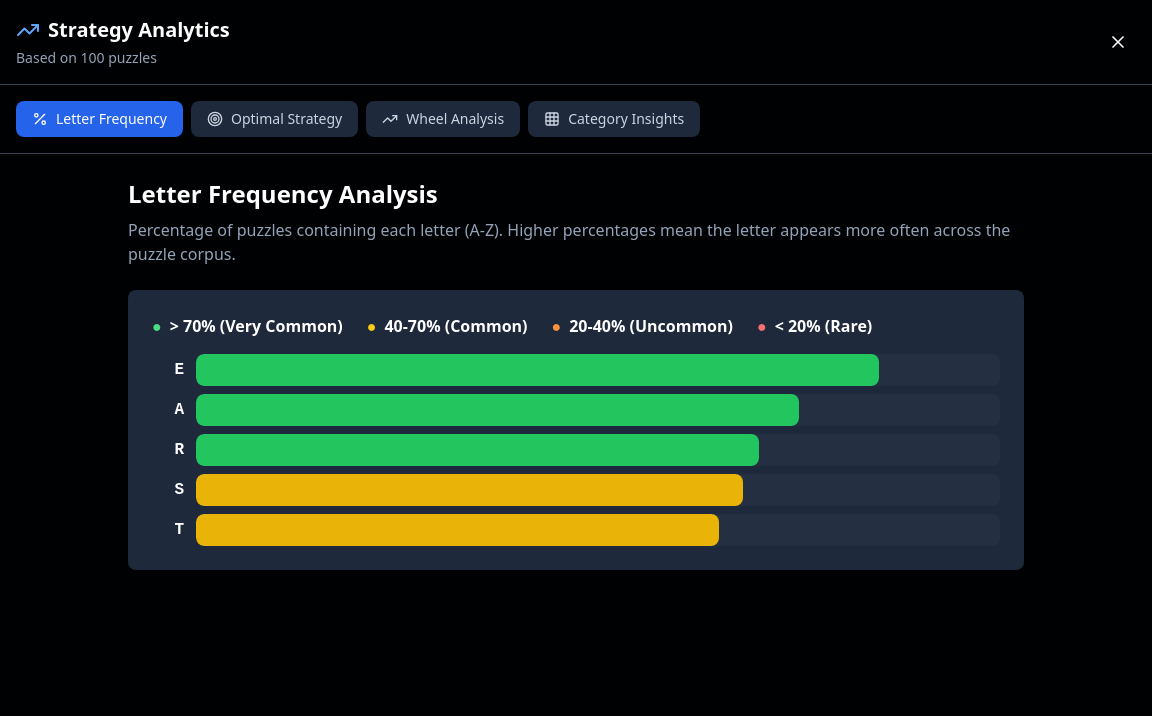
it: StrategyDashboard › should switch tabs when tab buttons are clicked
Check: the heading "Letter Frequency Analysis" is shown, box 128,177 -> 438,210
Click Optimal Strategy tab
Click the button "Optimal Strategy" at coordinates (275, 119), box 191,101 -> 358,137
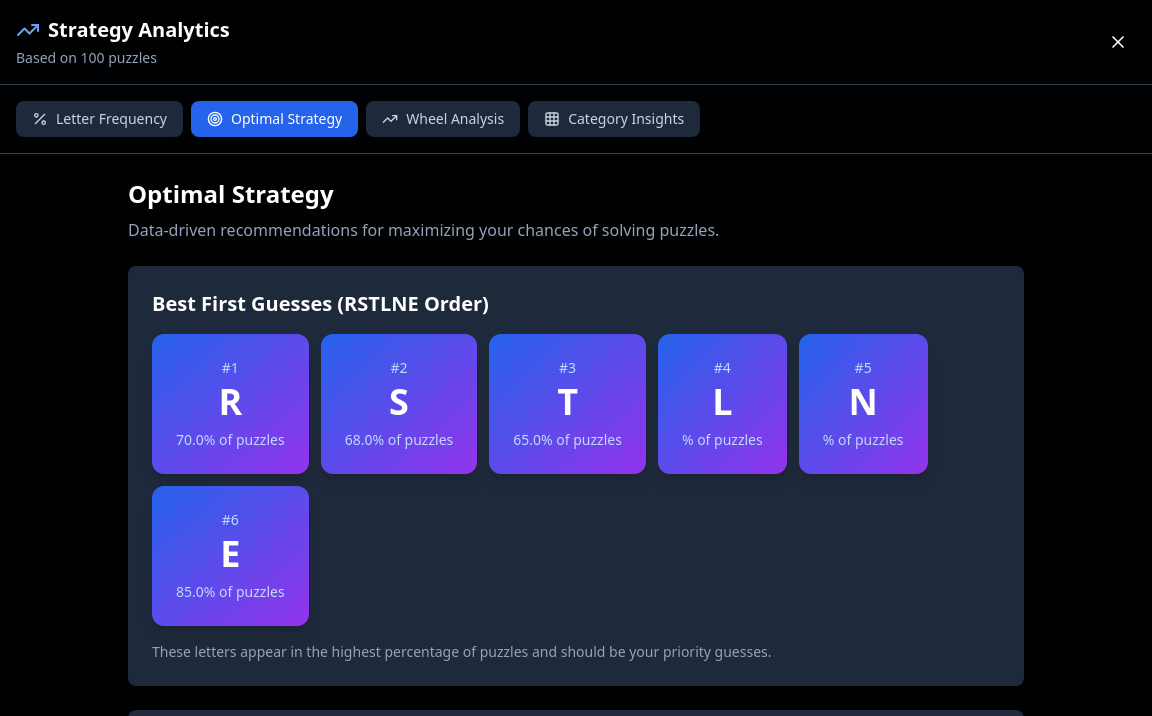
Check: the heading "Best First Guesses (RSTLNE Order)" is shown, box 152,290 -> 489,317
Click Wheel Analysis tab
Click the button "Wheel Analysis" at coordinates (443, 119), box 366,101 -> 520,137
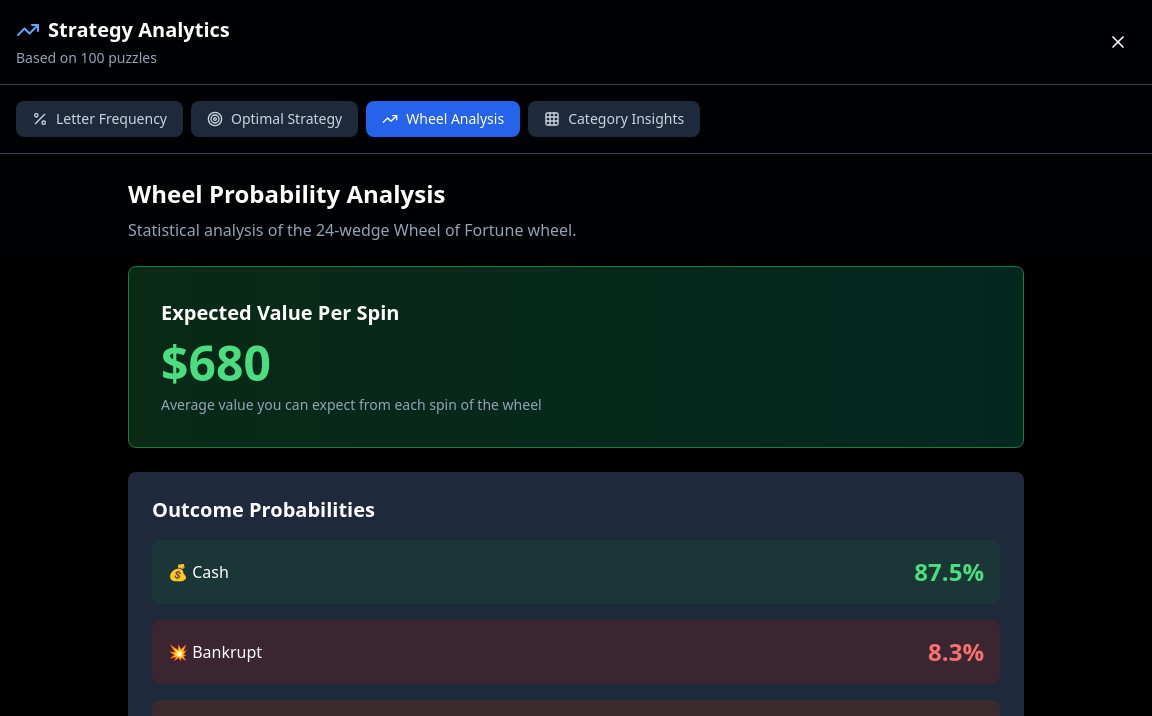
Check: the heading "Expected Value Per Spin" is shown, box 161,299 -> 399,326
Click Category Insights tab
Click the button "Category Insights" at coordinates (614, 119), box 528,101 -> 700,137
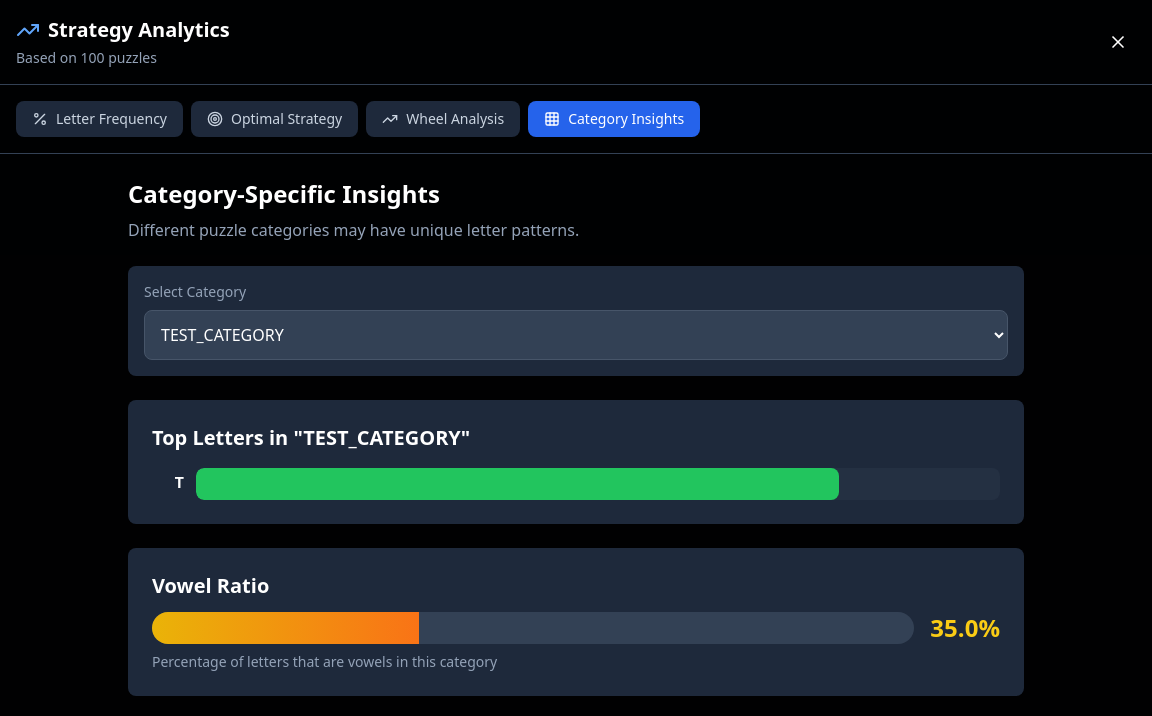
Check: the heading "Category-Specific Insights" is shown, box 128,177 -> 440,210
